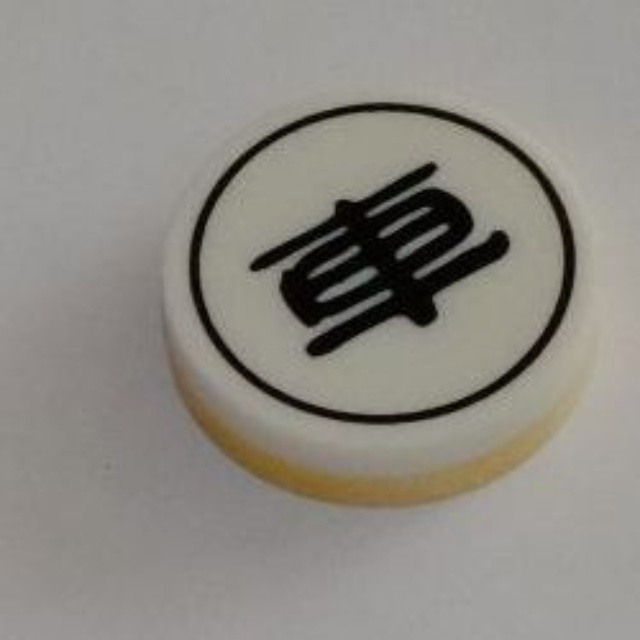black_xe: (157, 79, 607, 512)
